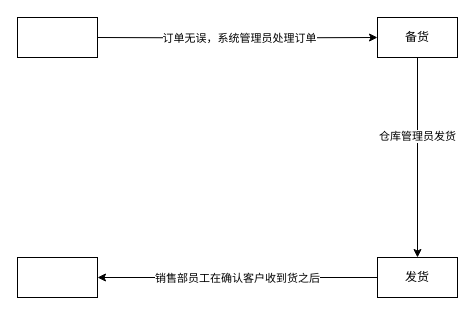
Image size: 475x315. Some labels were removed from this diagram. The centre of each missing label's shape, as x and y in pixels:
"关闭" goes at point (57, 277).
"初始" goes at point (57, 37).
